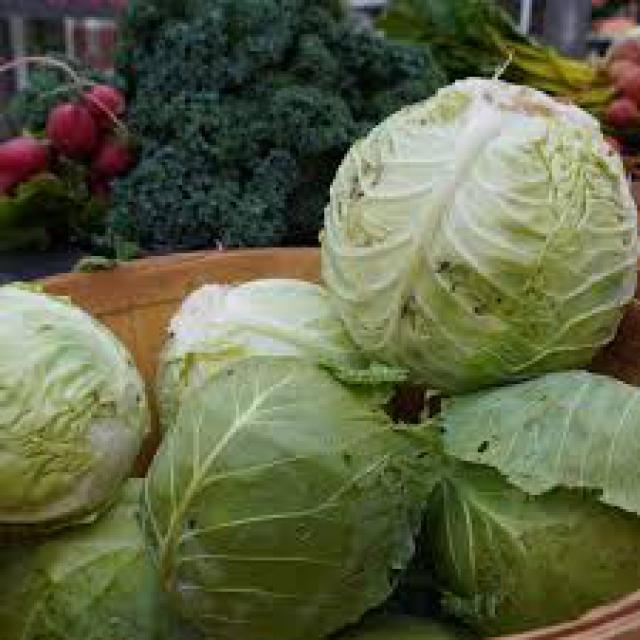Cabbage: (316, 75, 640, 392), (141, 351, 442, 640), (423, 365, 640, 632), (0, 282, 155, 535), (155, 278, 349, 472)
